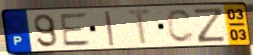9: (32, 13, 60, 49)
C: (165, 8, 197, 44)
E: (58, 11, 94, 48)
I: (103, 10, 116, 47)
T: (126, 8, 155, 47)
Z: (191, 7, 228, 44)
